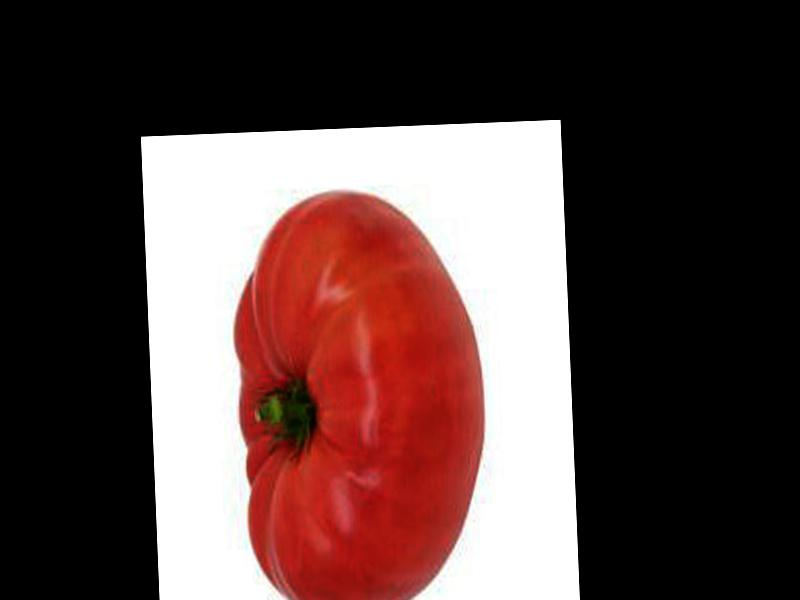Tomato: (234, 185, 490, 600)
